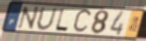4: (109, 10, 125, 37)
8: (90, 9, 111, 35)
C: (72, 8, 93, 35)
L: (54, 8, 70, 33)
N: (17, 5, 41, 30)
U: (36, 7, 59, 32)
